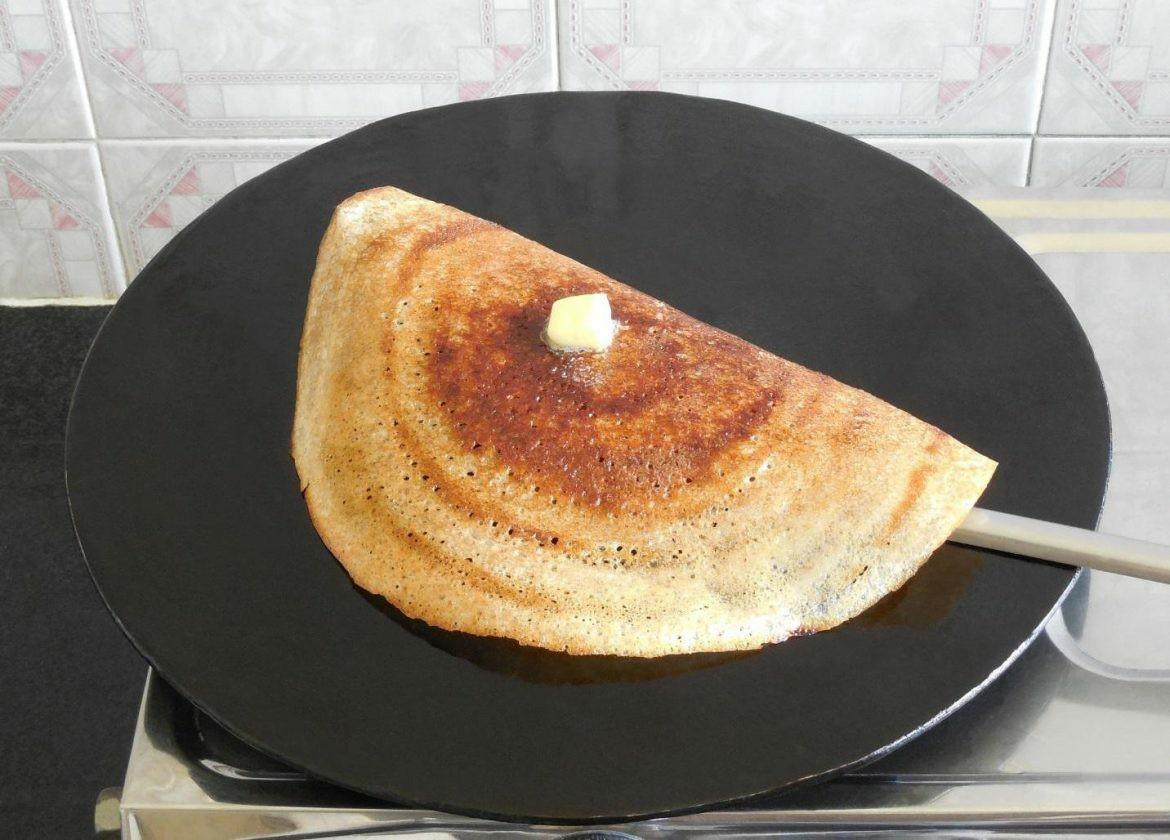Dosa: (293, 188, 1002, 658)
